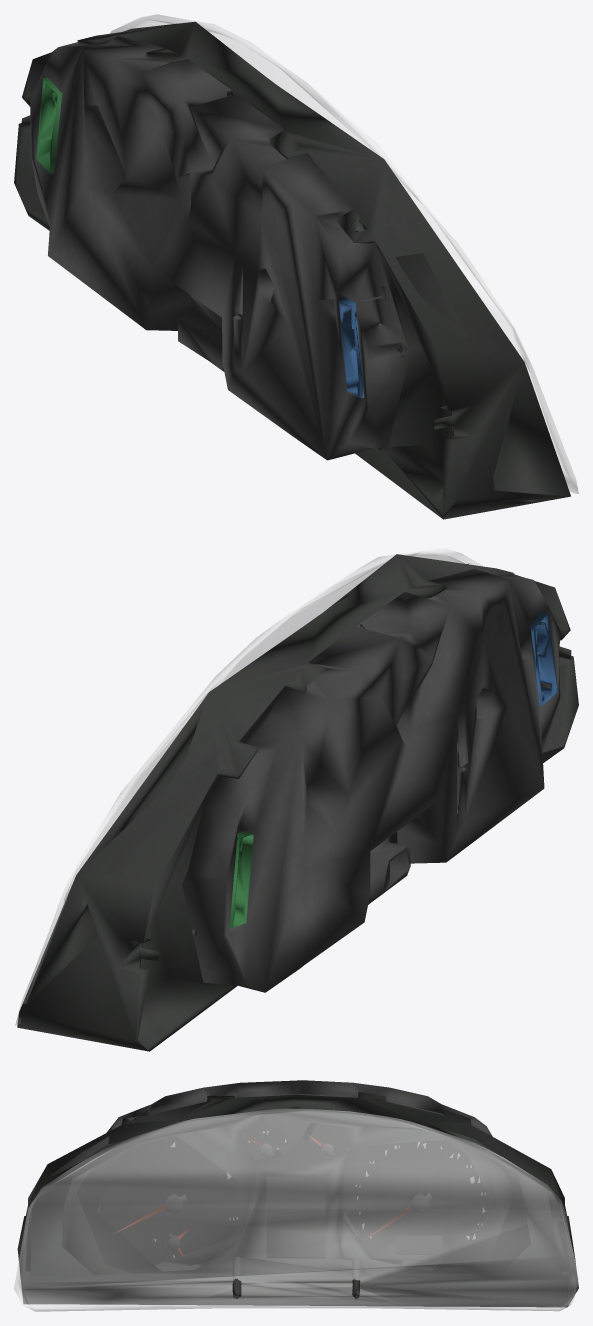
Rendered from interiorPart_dashboard_a01.glb.
The picture shows the model from 3 angles, top to bottom: view 1: azimuth 30°, elevation 25°; view 2: azimuth 150°, elevation 25°; view 3: azimuth 270°, elevation 25°; orthographic projection. The views are drawn at different scales.
Parts seen in each view (by area): view 1: body_01_mesh_00, glass_01_mesh_00; view 2: body_01_mesh_00, glass_01_mesh_00; view 3: body_01_mesh_00, glass_01_mesh_00, arrow_01_mesh_00, arrow_04_mesh_00, arrow_07_mesh_00, arrow_08_mesh_00.
Part boxes in pixels (left/top/right/bottom): body_01_mesh_00: left=14, top=21, right=570, bottom=519; glass_01_mesh_00: left=110, top=14, right=578, bottom=493; body_01_mesh_00: left=17, top=554, right=578, bottom=1051; glass_01_mesh_00: left=14, top=548, right=482, bottom=1025; body_01_mesh_00: left=17, top=1080, right=578, bottom=1307; glass_01_mesh_00: left=14, top=1108, right=578, bottom=1311; arrow_01_mesh_00: left=365, top=1192, right=432, bottom=1239; arrow_04_mesh_00: left=113, top=1193, right=187, bottom=1234; arrow_07_mesh_00: left=232, top=1257, right=241, bottom=1298; arrow_08_mesh_00: left=352, top=1257, right=360, bottom=1298.
Size of the model in its own units: 0.1047 by 0.1502 by 0.395.
12 materials, 9 textured.
